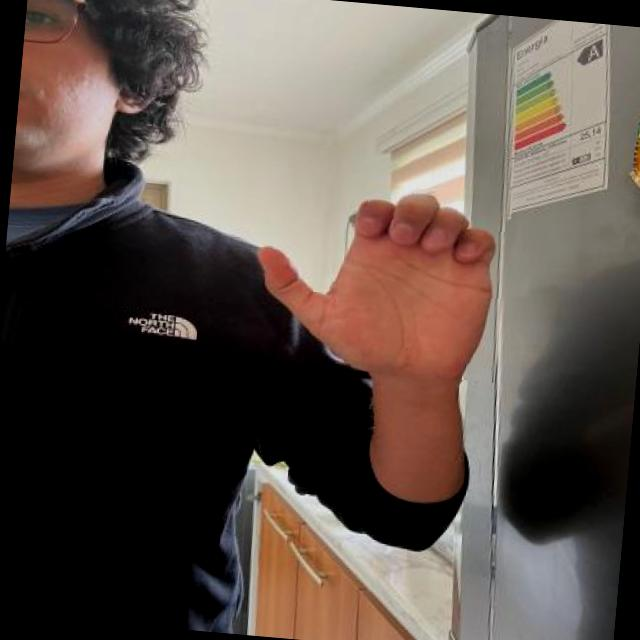E: (240, 170, 513, 383)
